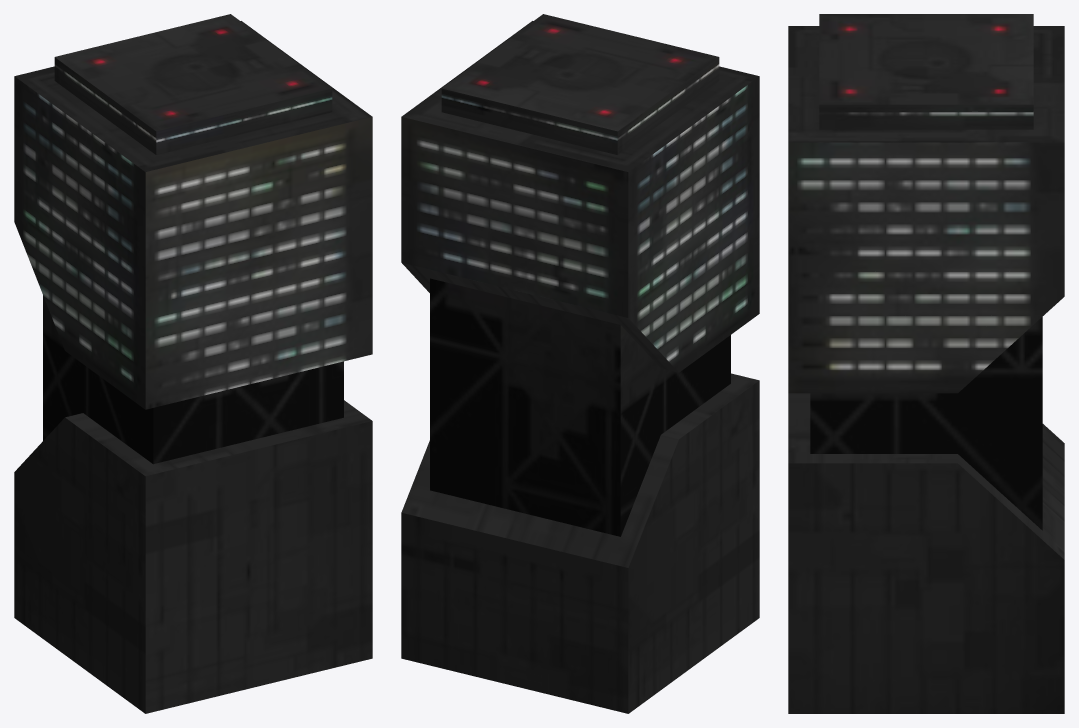
File: scifi_building_5.obj
3 renders of one model, left to right at view 1: azimuth 30°, elevation 25°; view 2: azimuth 150°, elevation 25°; view 3: azimuth 270°, elevation 25°, orthographic. The views are drawn at different scales.
Parts seen in each view (by area): view 1: building_5; view 2: building_5; view 3: building_5.
Boxes of the visible parts, x1,y1,x2,y2 form: building_5: [14, 14, 372, 713]; building_5: [401, 14, 759, 713]; building_5: [788, 14, 1064, 713].
Bounding box in the file's own units: 34.68 × 82.55 × 34.68.
